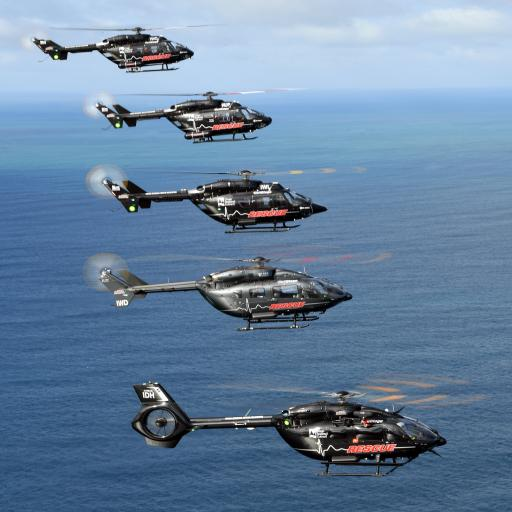helicopter: (125, 375, 487, 489), (87, 247, 398, 331), (80, 161, 378, 237), (86, 87, 316, 147), (36, 24, 227, 75)
